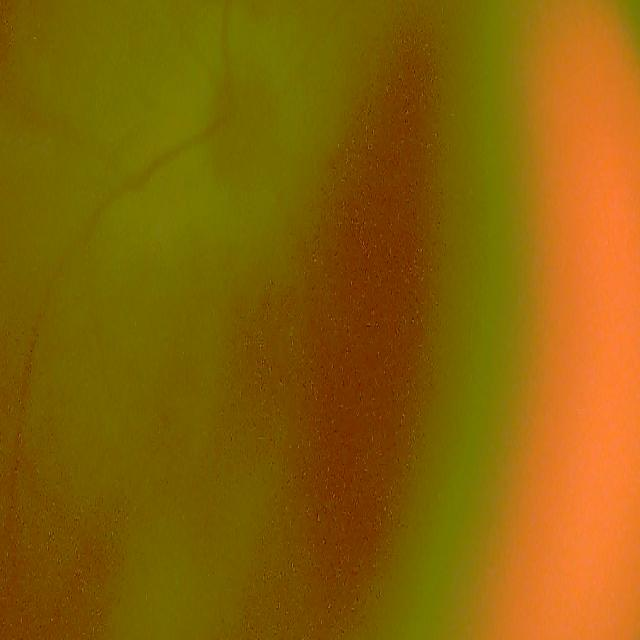optic-nerve: (194, 43, 292, 217)
